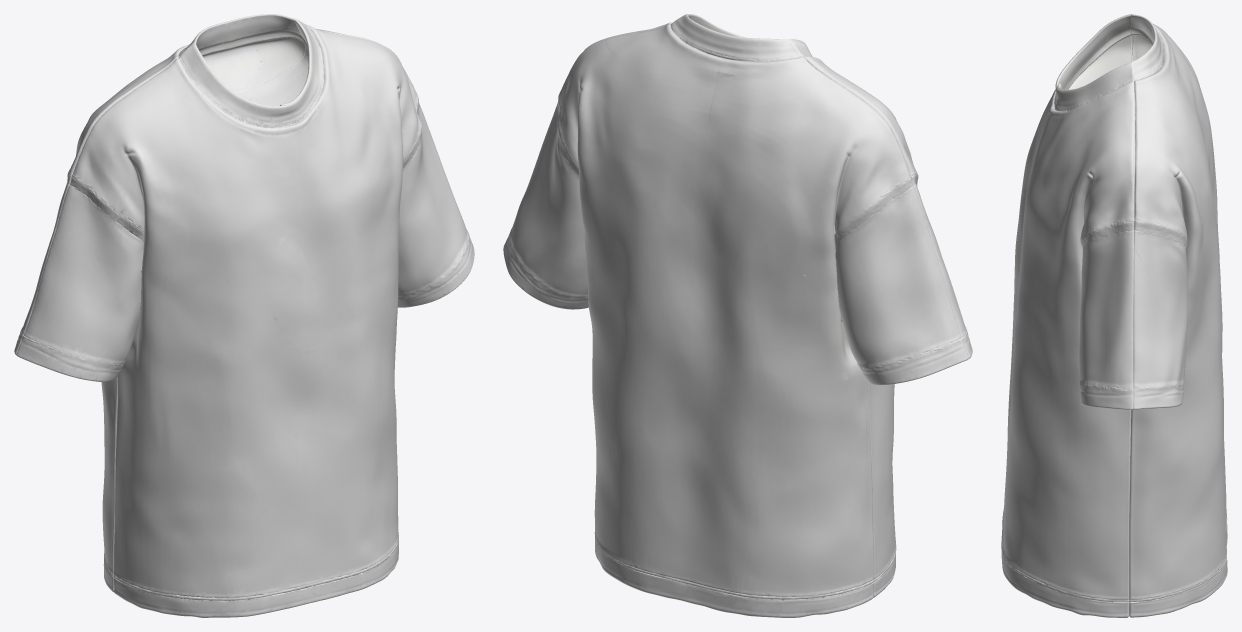
File: shirt_1-optimized.glb
The picture shows the model from 3 angles, left to right: view 1: azimuth 30°, elevation 25°; view 2: azimuth 150°, elevation 25°; view 3: azimuth 270°, elevation 25°; orthographic projection. The views are drawn at different scales.
Parts seen in each view (by area): view 1: tripo_node_44f481d6-e0d3-4792-b25d-f41416d3445f; view 2: tripo_node_44f481d6-e0d3-4792-b25d-f41416d3445f; view 3: tripo_node_44f481d6-e0d3-4792-b25d-f41416d3445f.
Part boxes in pixels (x1=…): tripo_node_44f481d6-e0d3-4792-b25d-f41416d3445f: x1=14, y1=14, x2=474, y2=617; tripo_node_44f481d6-e0d3-4792-b25d-f41416d3445f: x1=503, y1=14, x2=972, y2=617; tripo_node_44f481d6-e0d3-4792-b25d-f41416d3445f: x1=1001, y1=14, x2=1227, y2=617.
Bounding box in the file's own units: 0.8752 × 0.9789 × 0.3855.
Materials: 1 (1 with a texture image).
